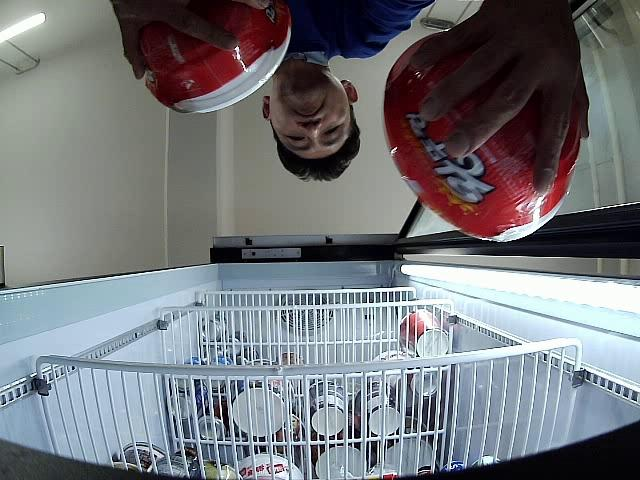00_hand: (411, 0, 588, 194), (110, 0, 237, 79)
10_wangTtukkeong: (383, 31, 581, 242), (141, 0, 290, 114)
